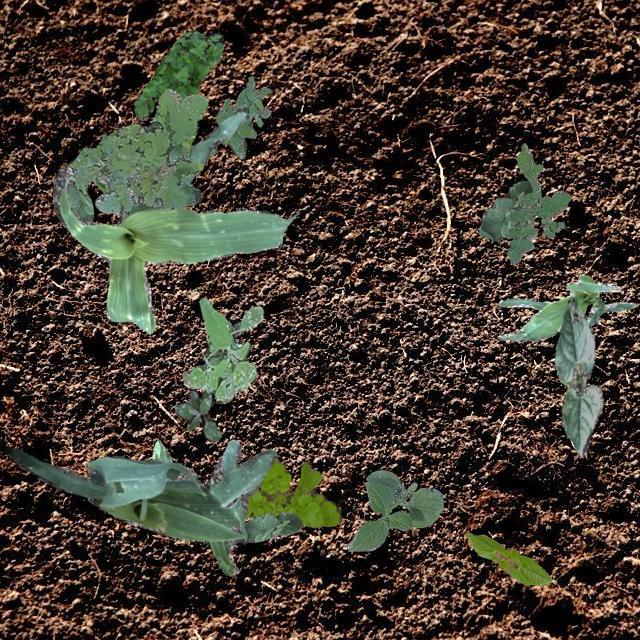crop: (52, 110, 294, 334), (5, 438, 276, 574), (496, 272, 634, 340), (346, 468, 442, 550), (554, 296, 602, 456), (466, 532, 550, 584), (478, 180, 532, 240), (240, 511, 302, 542), (66, 178, 92, 220), (152, 439, 170, 462)
weed: (66, 88, 206, 212), (180, 296, 262, 402), (502, 142, 570, 262), (132, 30, 222, 120), (244, 458, 340, 526), (206, 76, 270, 158), (173, 388, 220, 442)
